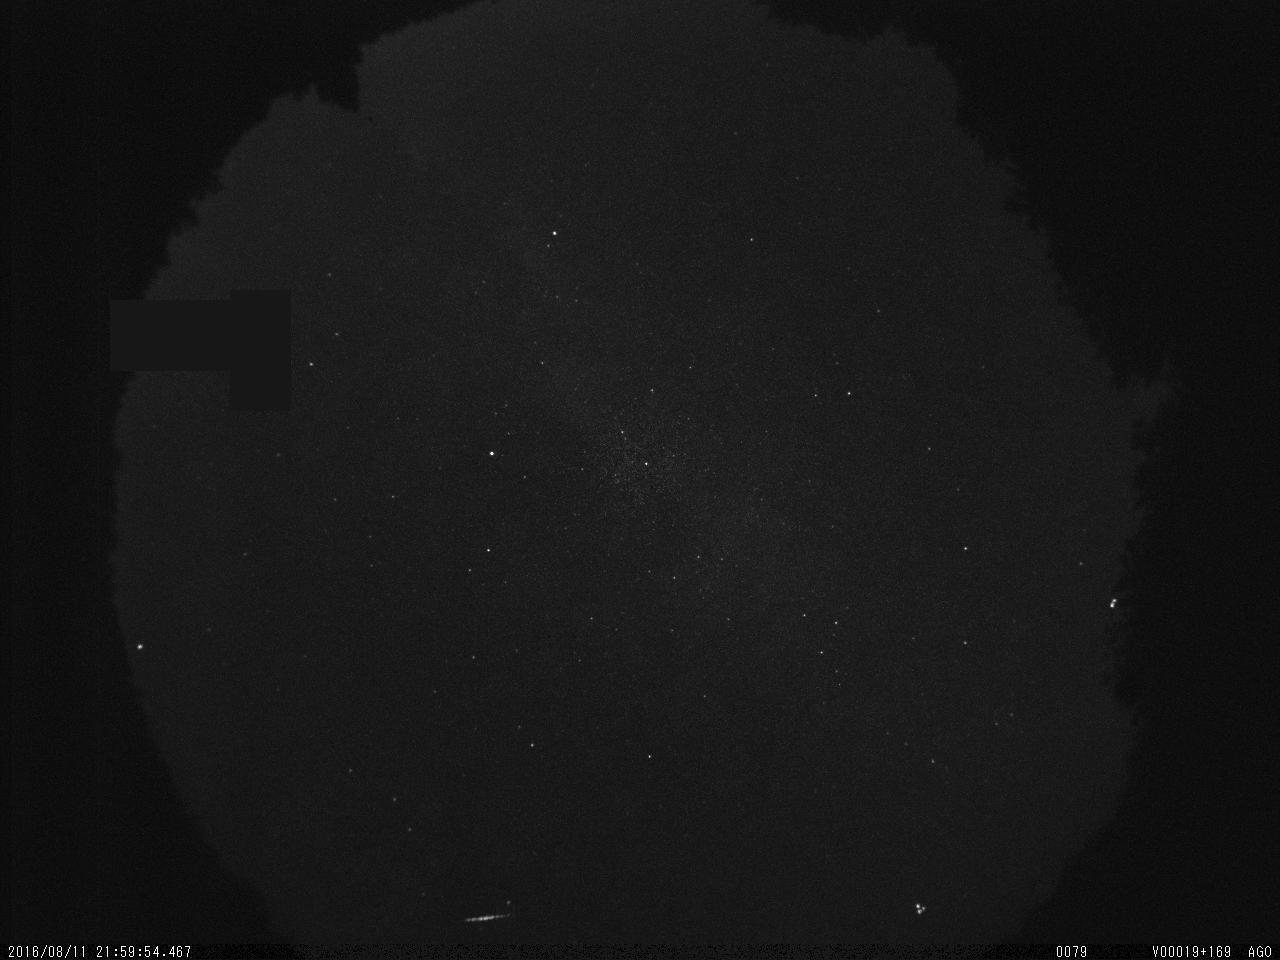meteor: (447, 901, 517, 935)
